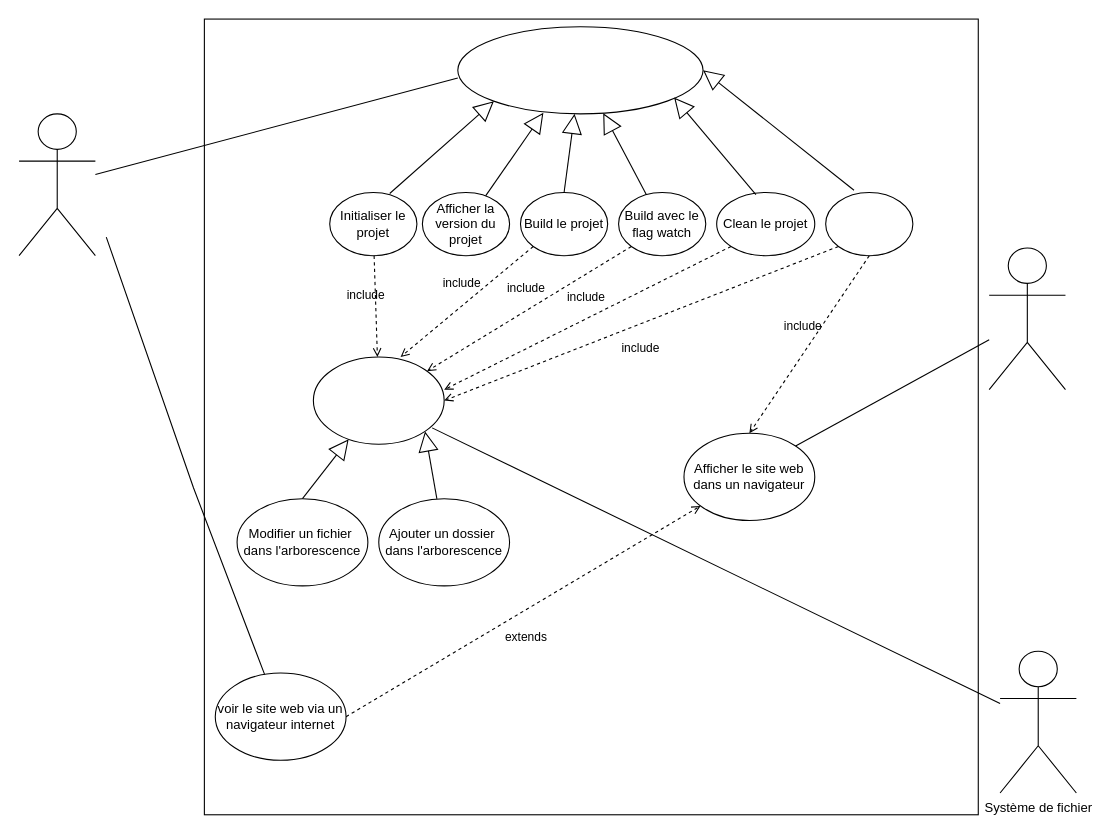
Some shapes in this 1111 by 835 pixel diagram are drawn without their labels. The box of each missing label's shape, as (x1, y1, x2, y2) in pixels:
Lancer le serveur web: (825, 191, 913, 256)
Lancer une commande: (457, 26, 703, 114)
Modifier l'aroborescence: (312, 356, 444, 444)
Serveur web: (988, 247, 1065, 390)
Utilisateur: (18, 113, 95, 256)
